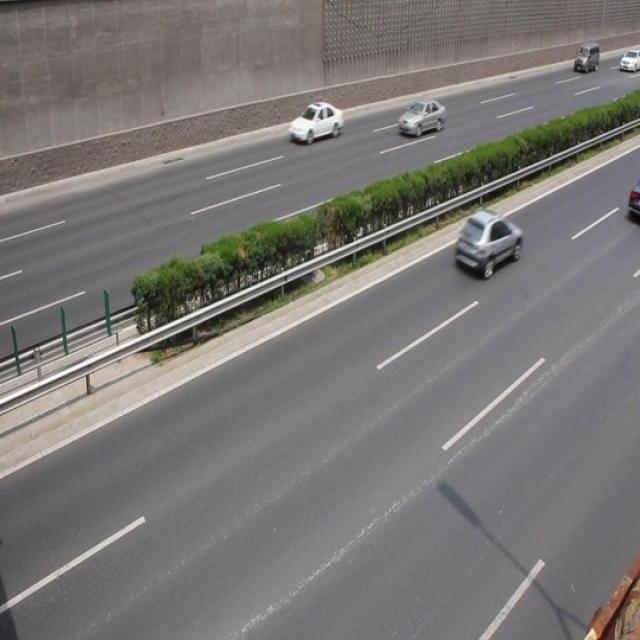car: (453, 211, 520, 278), (287, 100, 342, 144), (397, 98, 445, 138)
truck: (572, 43, 598, 71)
